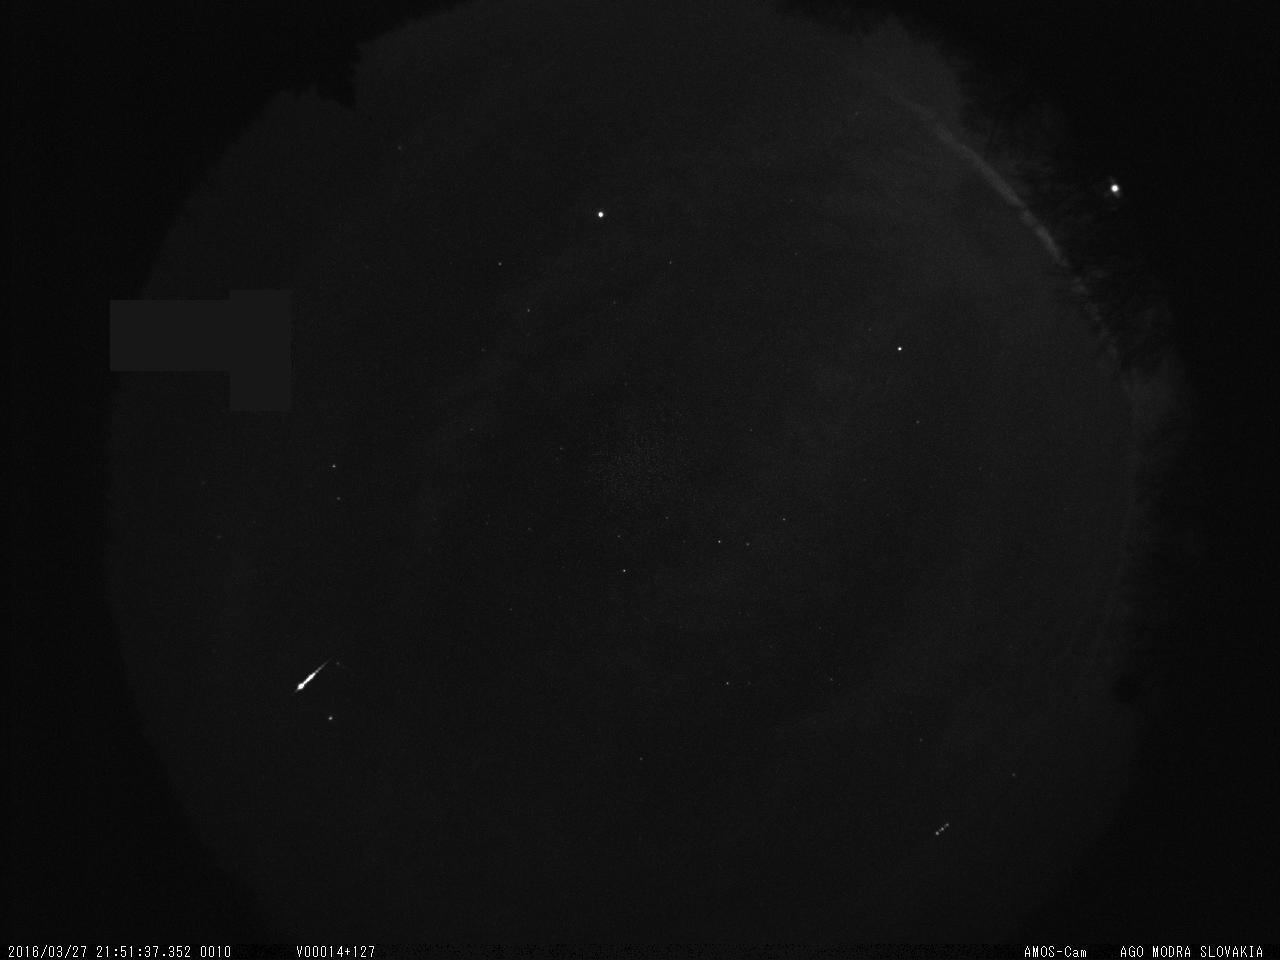meteor: (283, 655, 338, 699)
